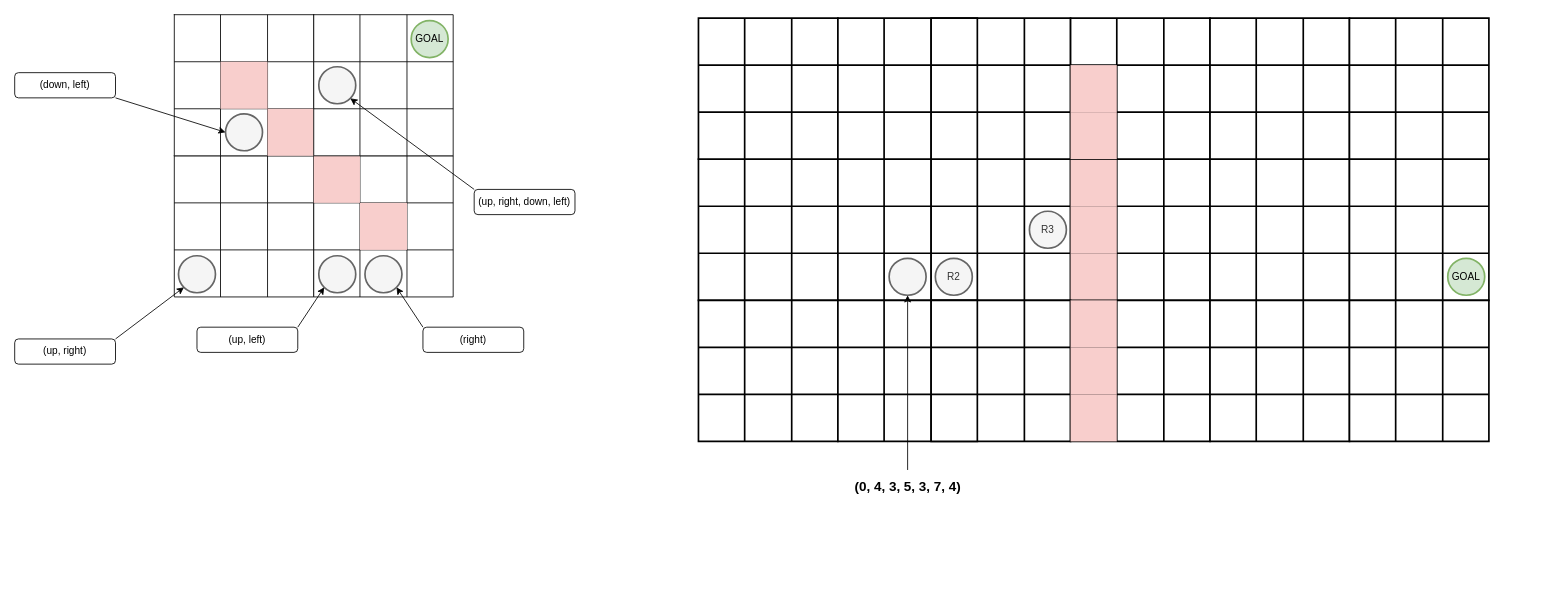
Some shapes in this 1550 by 597 pixel diagram are drawn without their labels. Each missing label, with the centre of its shape:
R1: the point at 907,276
START: the point at 196,274
